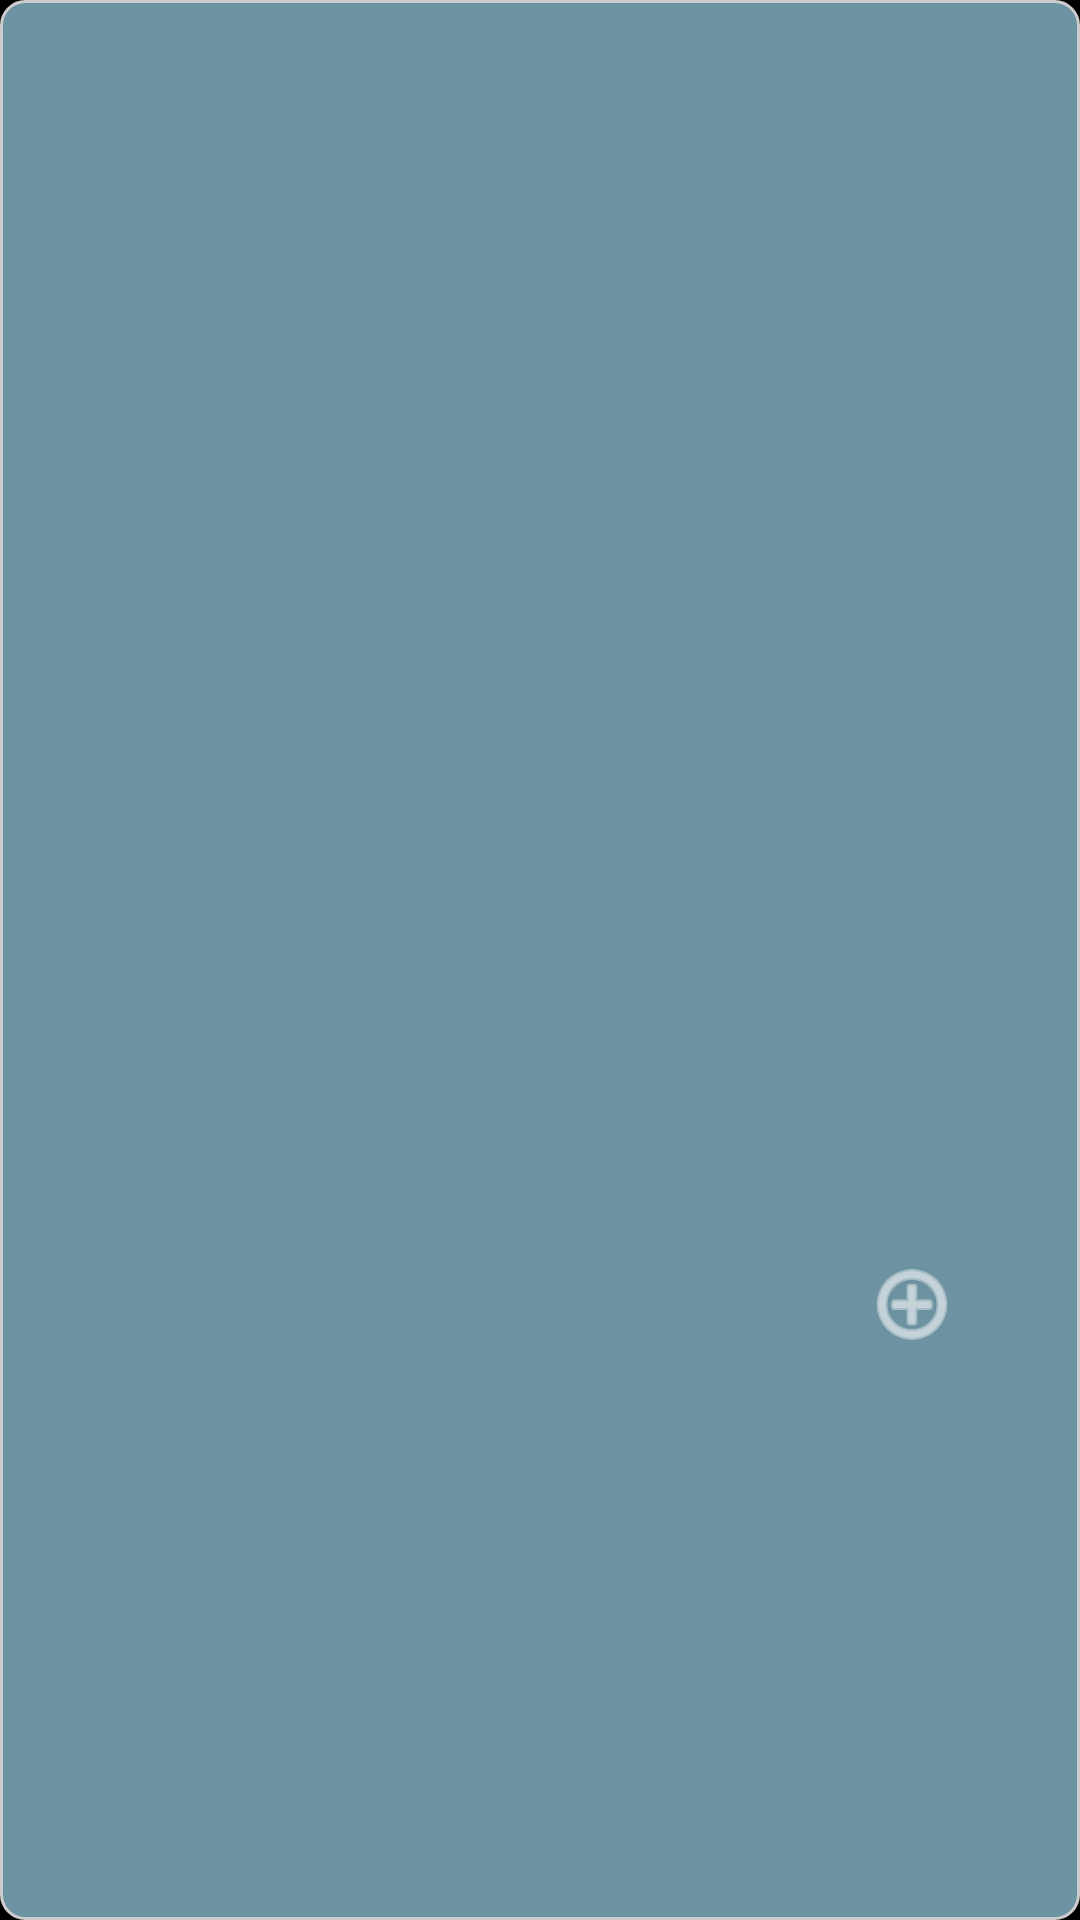

Named icons in this screenshot (1080 x 1920) and their centers, point (x, y):
add: point (912, 1304)
